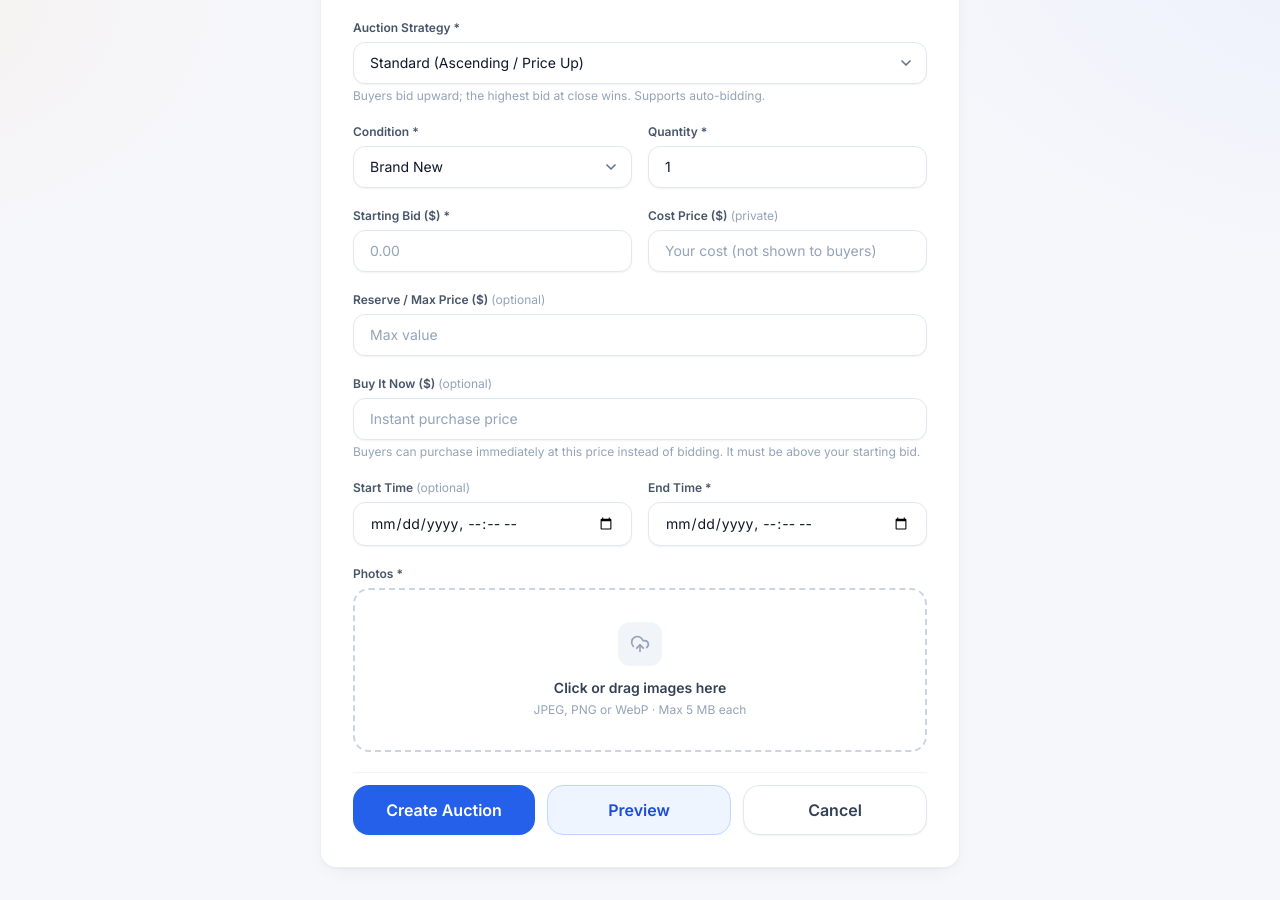
the preview matches what a buyer will be shown › still shows the condition for a product
(page scrolled)
Click the button "Preview".
click(639, 810)  # box [547,785,731,835]
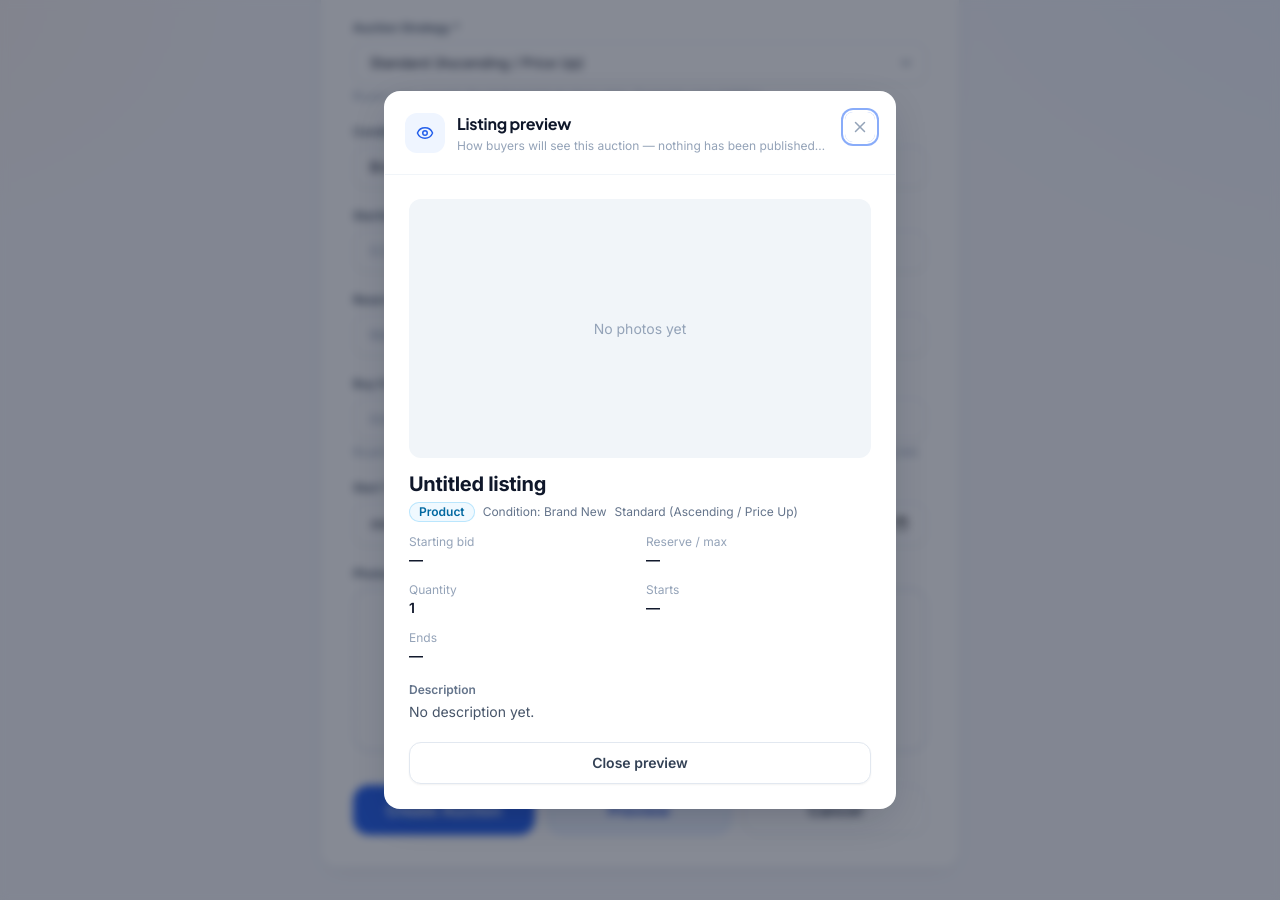
Expected: the text "Product" is shown, [409,502,475,522]
Expected: the text "Condition: Brand New" is shown, [483,504,606,520]
